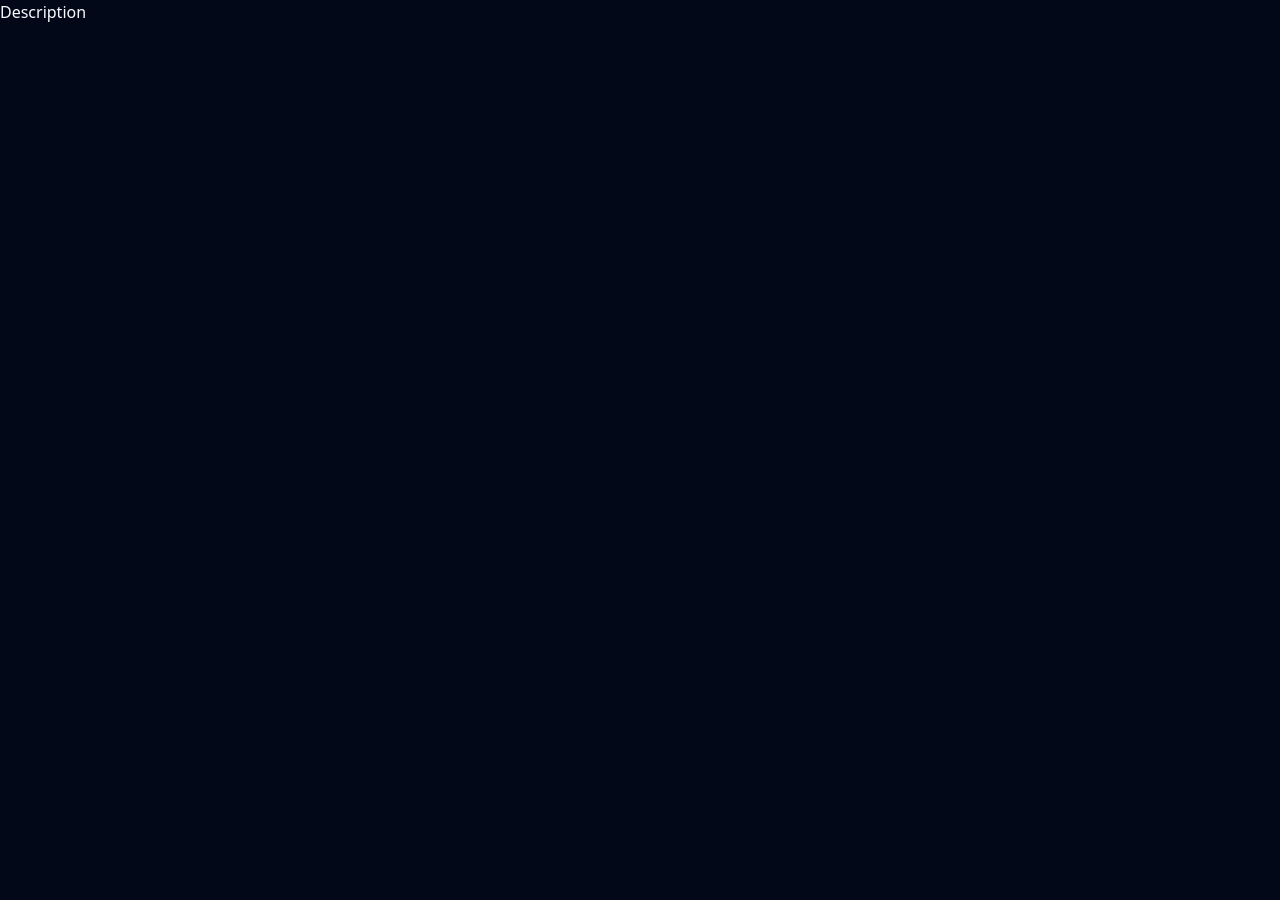
Scenario: Dialog组件系统 › DialogDescription › 应该提供辅助描述信息
Click the button "Description" at (43, 12), box [0,0,86,24]
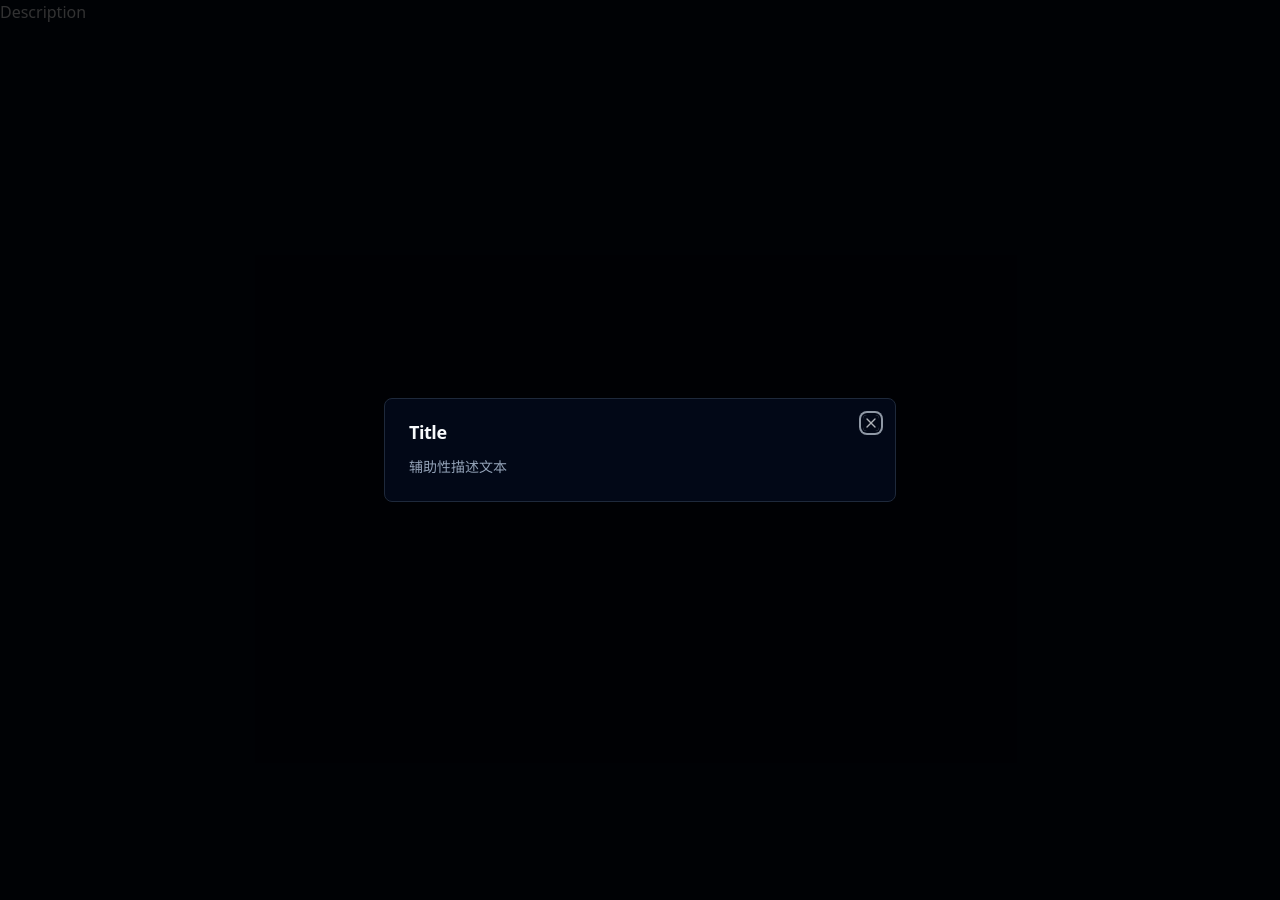
Expected: the text "辅助性描述文本" is shown, [409,457,507,476]
